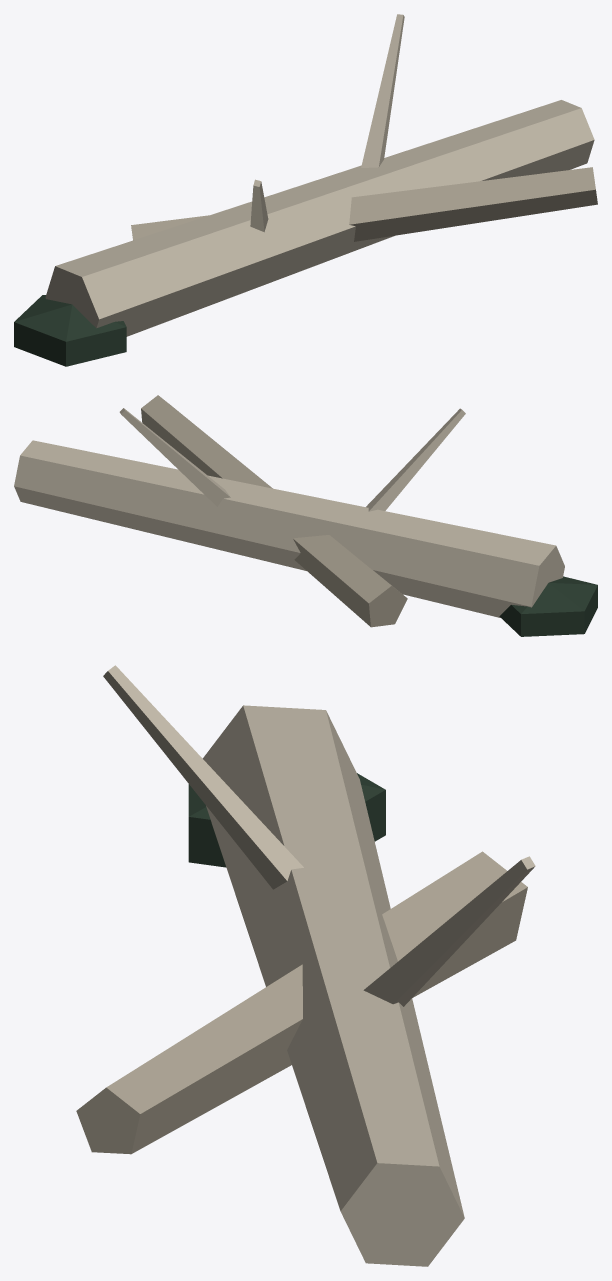
File: a3c_driftwood.glb
3 views of the same model, one above another, from view 1: azimuth 30°, elevation 25°; view 2: azimuth 150°, elevation 25°; view 3: azimuth 270°, elevation 25° (orthographic). The views are drawn at different scales.
Visible parts, largest first — view 1: a3c_driftwood; view 2: a3c_driftwood; view 3: a3c_driftwood.
Part boxes in pixels (bbox=[...]): a3c_driftwood: bbox=[14, 14, 597, 366]; a3c_driftwood: bbox=[14, 395, 597, 636]; a3c_driftwood: bbox=[76, 665, 535, 1266].
Size of the model in its own units: 2.96 by 0.9297 by 1.1.
